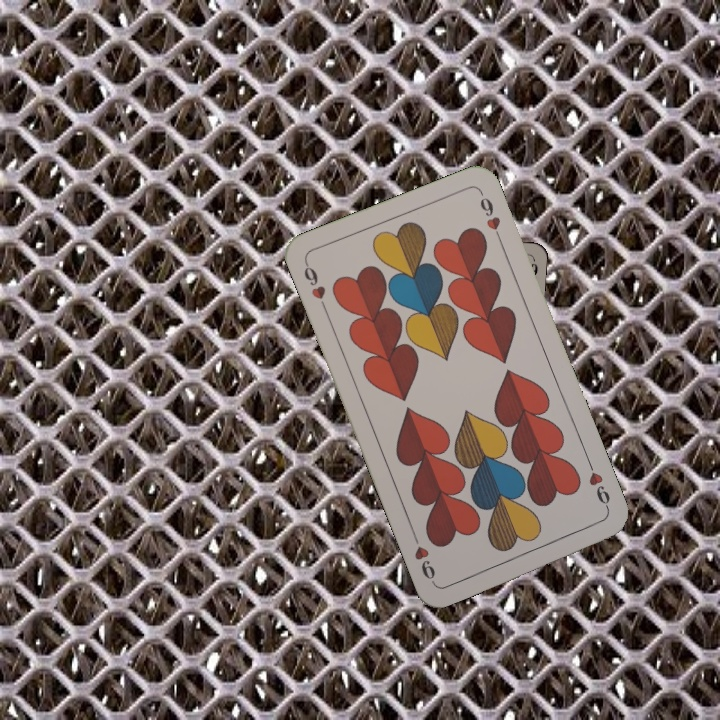H9: (299, 258, 330, 314), (584, 458, 613, 515)
